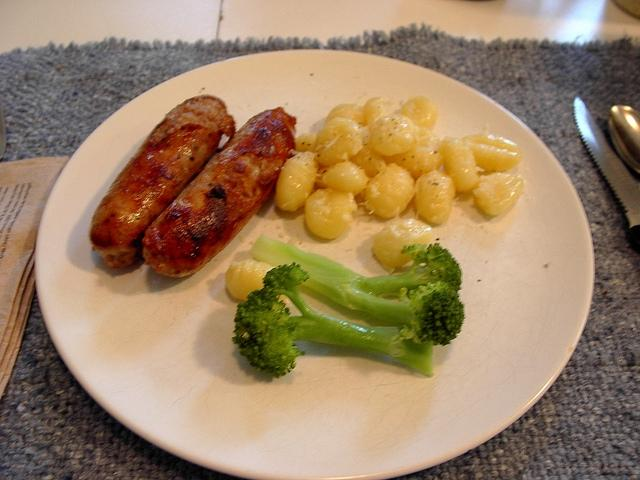broccoli: (249, 234, 467, 346), (232, 262, 434, 378)
